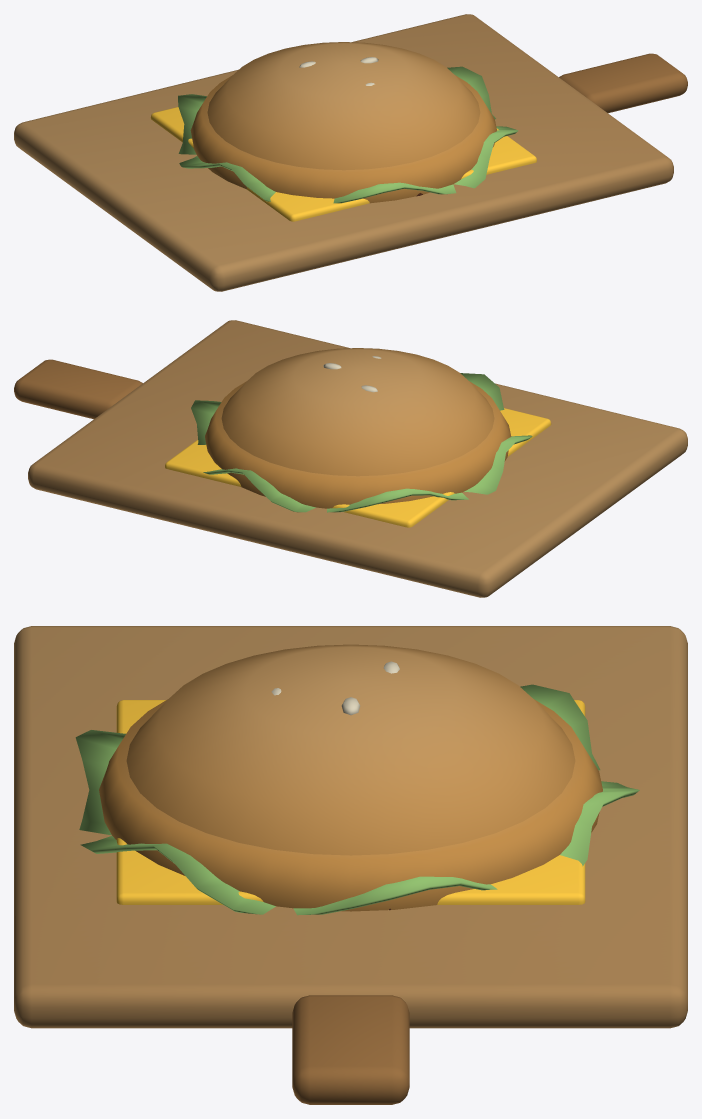
File: burger.glb
3 views of the same model, one above another, from view 1: azimuth 30°, elevation 25°; view 2: azimuth 150°, elevation 25°; view 3: azimuth 270°, elevation 25° (orthographic). The views are drawn at different scales.
Visible parts, largest first — view 1: board, bun_top, bun_bottom, lettuce, cheese; view 2: board, bun_top, bun_bottom, lettuce, cheese; view 3: board, bun_top, bun_bottom, lettuce, cheese.
Boxes of the visible parts, bbox=[...] form: board: bbox=[14, 14, 687, 291]; bun_top: bbox=[207, 42, 480, 170]; bun_bottom: bbox=[190, 75, 496, 203]; lettuce: bbox=[178, 66, 518, 203]; cheese: bbox=[150, 107, 536, 221]; board: bbox=[14, 320, 687, 597]; bun_top: bbox=[221, 348, 494, 476]; bun_bottom: bbox=[205, 381, 511, 508]; lettuce: bbox=[191, 373, 532, 512]; cheese: bbox=[165, 408, 551, 527]; board: bbox=[14, 626, 687, 1104]; bun_top: bbox=[126, 644, 575, 855]; bun_bottom: bbox=[99, 699, 602, 911]; lettuce: bbox=[75, 684, 639, 915]; cheese: bbox=[116, 700, 585, 904].
Bounding box in the file's own units: 1.82 × 0.335 × 1.15.
